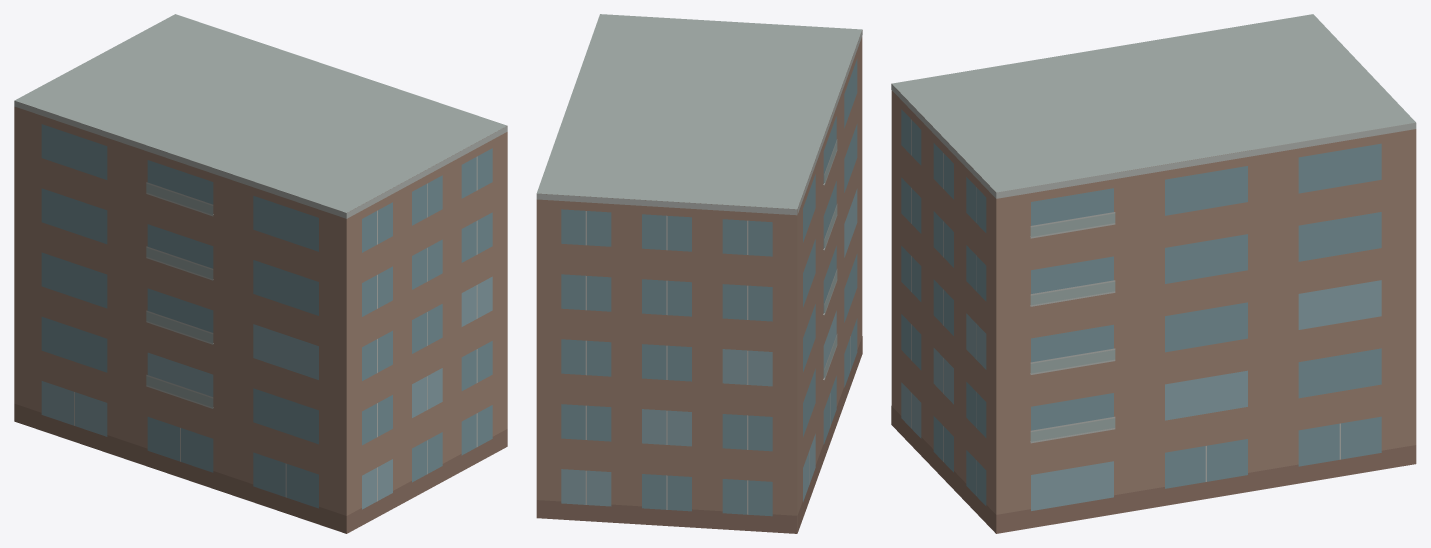
File: survey-upis-33006394.glb
The picture shows the model from 3 angles, left to right: view 1: azimuth 30°, elevation 25°; view 2: azimuth 150°, elevation 25°; view 3: azimuth 270°, elevation 25°; orthographic projection. The views are drawn at different scales.
Parts seen in each view (by area): view 1: survey-upis-33006394.tmp; view 2: survey-upis-33006394.tmp; view 3: survey-upis-33006394.tmp.
Part boxes in pixels (x1=…): survey-upis-33006394.tmp: x1=14, y1=14, x2=507, y2=533; survey-upis-33006394.tmp: x1=536, y1=14, x2=862, y2=533; survey-upis-33006394.tmp: x1=891, y1=14, x2=1416, y2=533.
Size of the model in its own units: 14.88 by 13.25 by 18.47.
